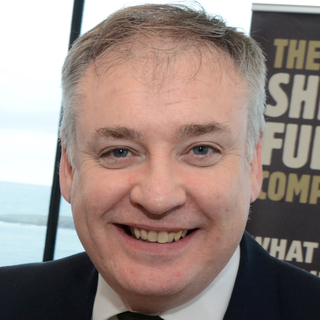eye: (87, 141, 149, 171), (169, 138, 229, 168)
